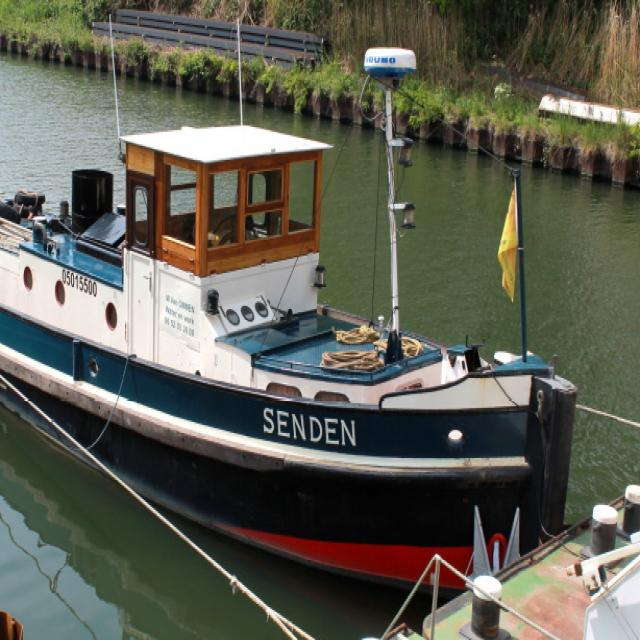tugboat: (1, 45, 584, 616)
